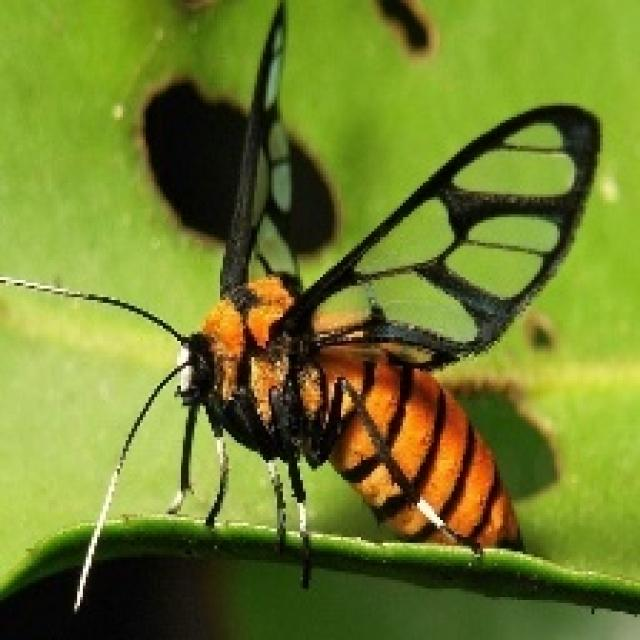butterfly: (0, 0, 603, 611)
